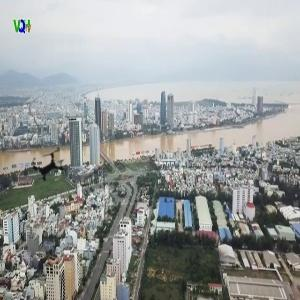drone: (19, 136, 79, 196)
